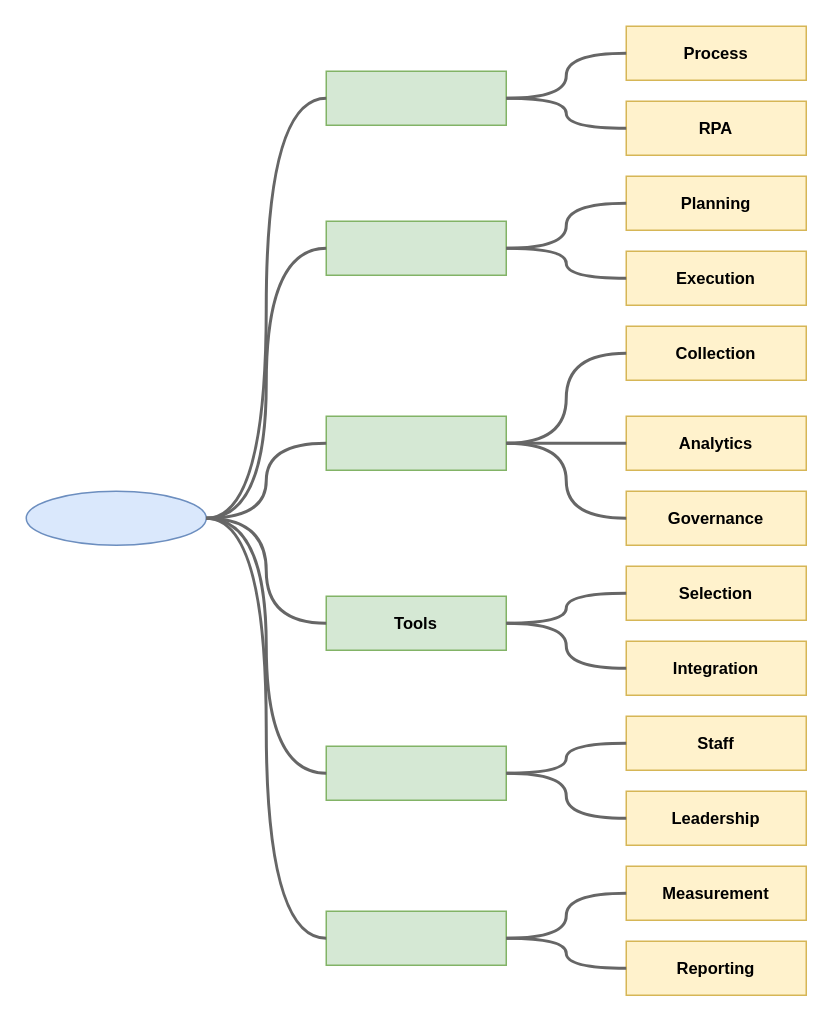
The diagram is 833 pixels wide and 1022 high, and some of its shapes have lost their labels. The shapes that lost their labels are listed below. From the top down, each one's centre as x and y in pixels, then its label:
the point at 415,97: Automation
the point at 415,247: Cloud migration
the point at 415,442: Data strategy
the point at 115,517: Digital Transformation Strategy
the point at 415,772: Training
the point at 415,937: KPIs
